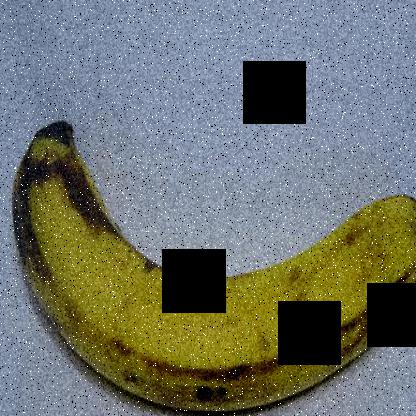ripe: (5, 102, 416, 415)
